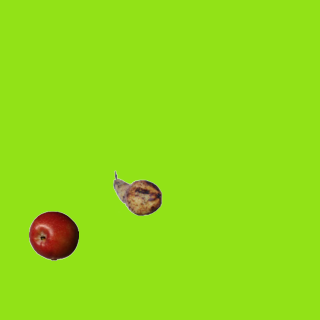Apple Braeburn: (28, 210, 78, 260)
Pear Abate: (112, 168, 162, 218)
